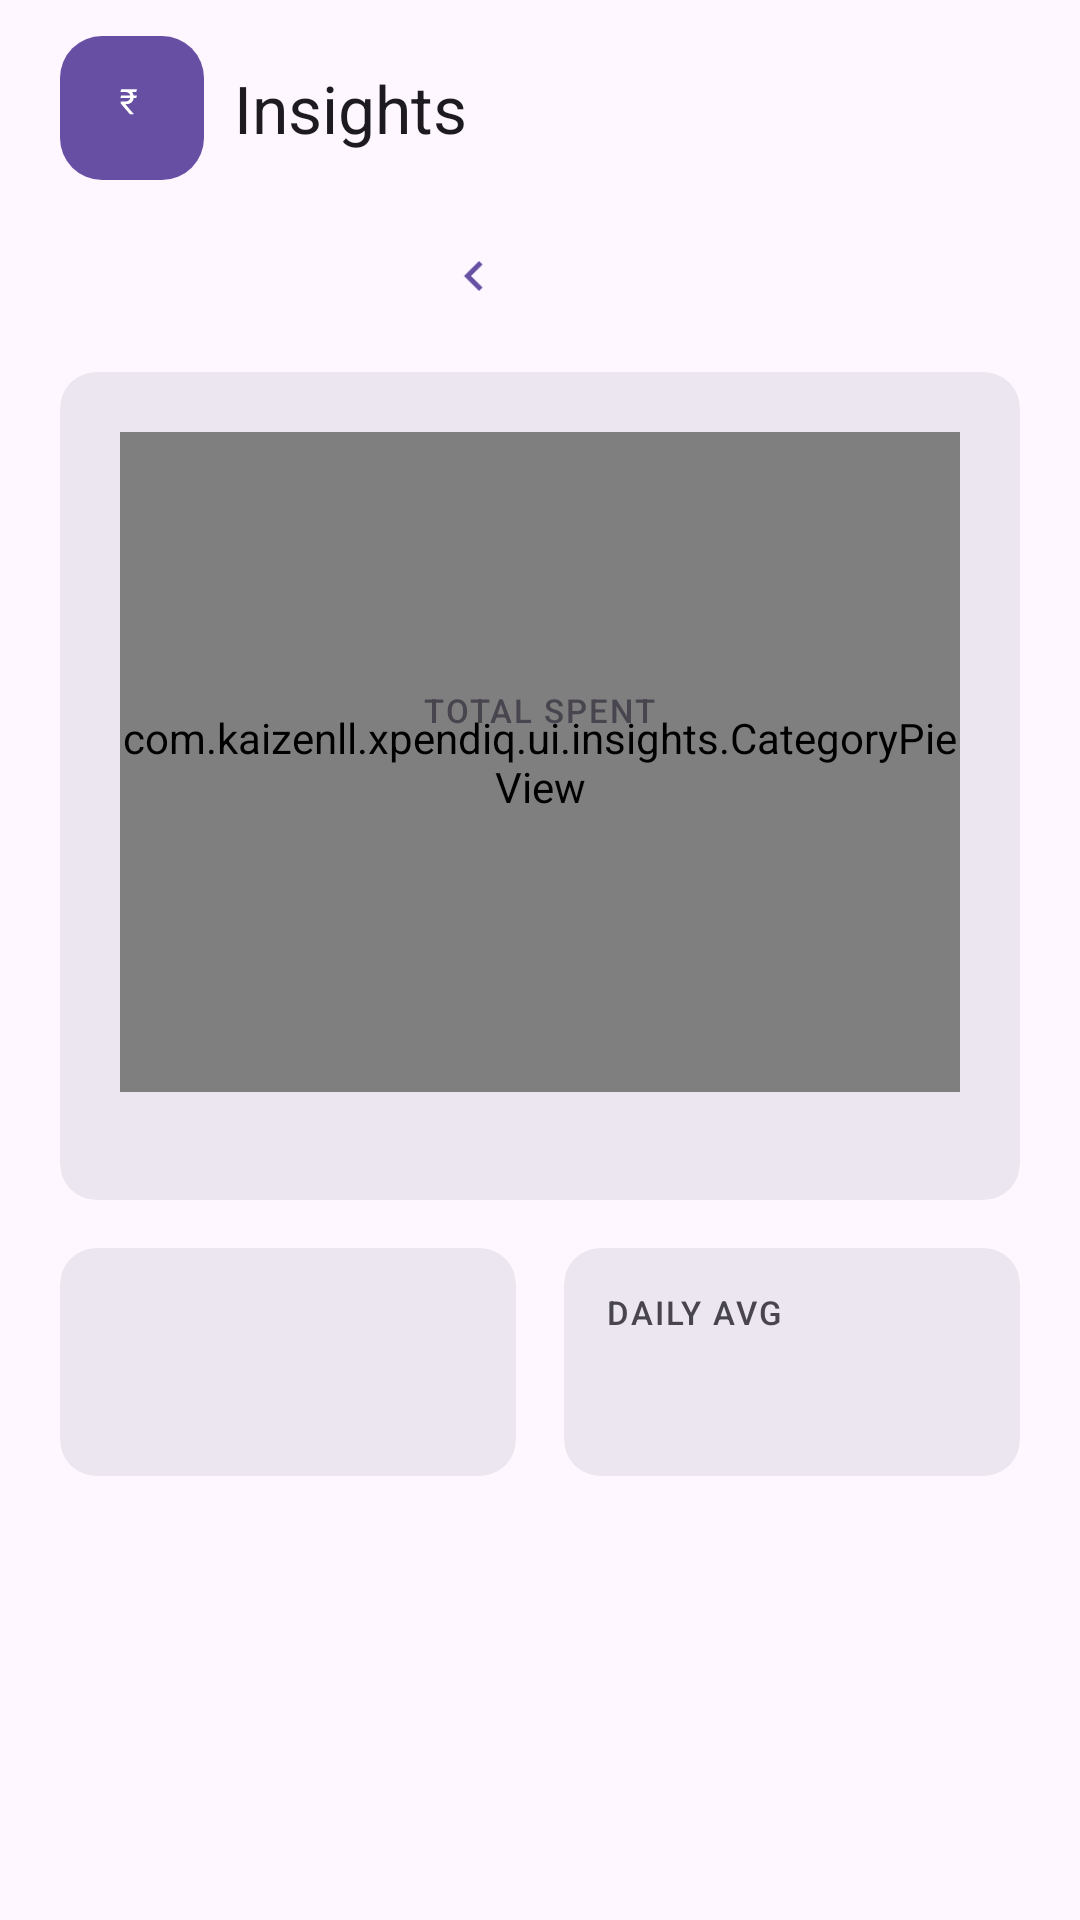

Icon bounding boxes for this 1080 × 1920 phone screenshot, format (x1, y1, x2, y2):
brand mark: (60, 36, 204, 180)
Previous month: (464, 261, 483, 291)
